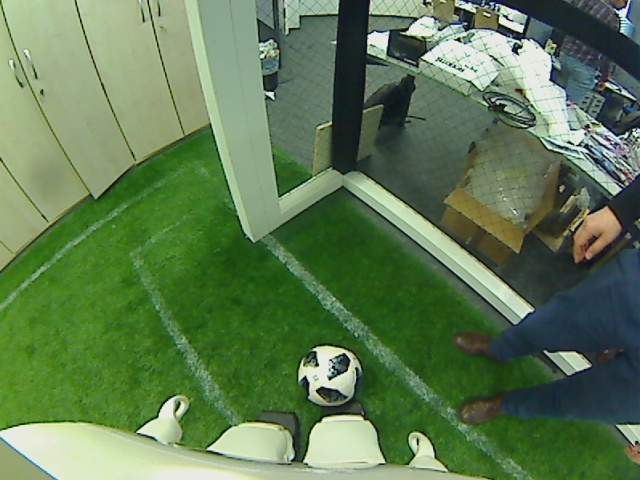ball: (296, 342, 361, 409)
